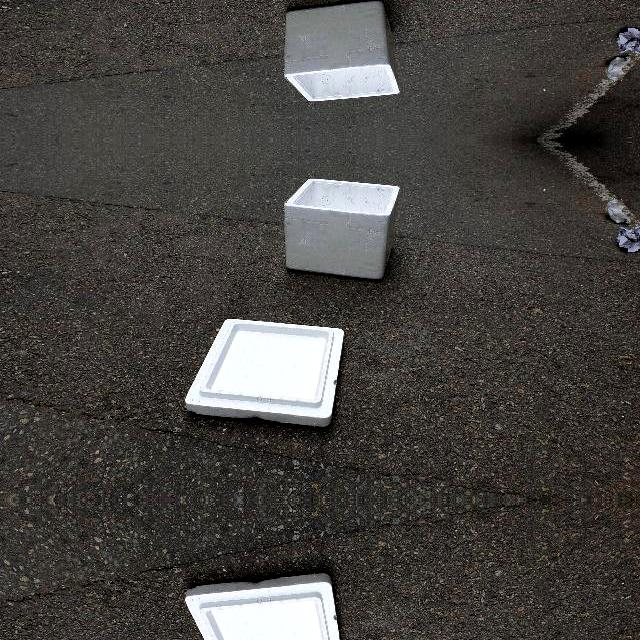Styrofoam: (185, 318, 345, 429), (185, 319, 344, 426), (284, 176, 402, 280), (284, 0, 402, 104), (284, 178, 400, 278), (284, 2, 400, 102), (185, 570, 345, 640), (185, 574, 341, 640)
